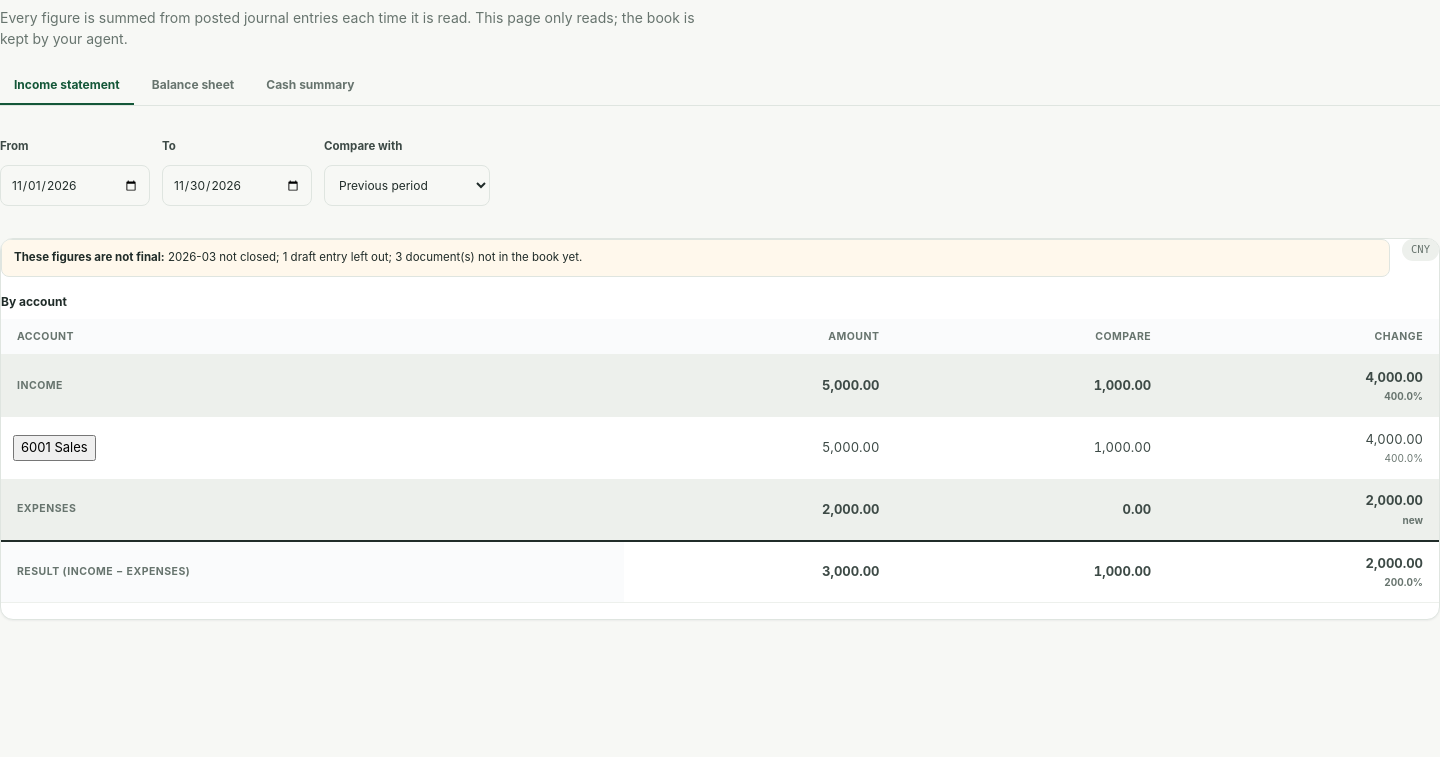
Scenario: StatementsPage › says the figures are not final before showing them, and opens an account's ledger
The image size is (1440, 757).
Expected: the text "Result (income − expenses)" shows "3,000.00", [822, 563, 879, 579]
Expected: the row "6001 Sales" shows "5,000.00", [822, 439, 880, 455]
Click the button "6001 Sales": (54, 448) [13, 435, 96, 461]
(page scrolled)
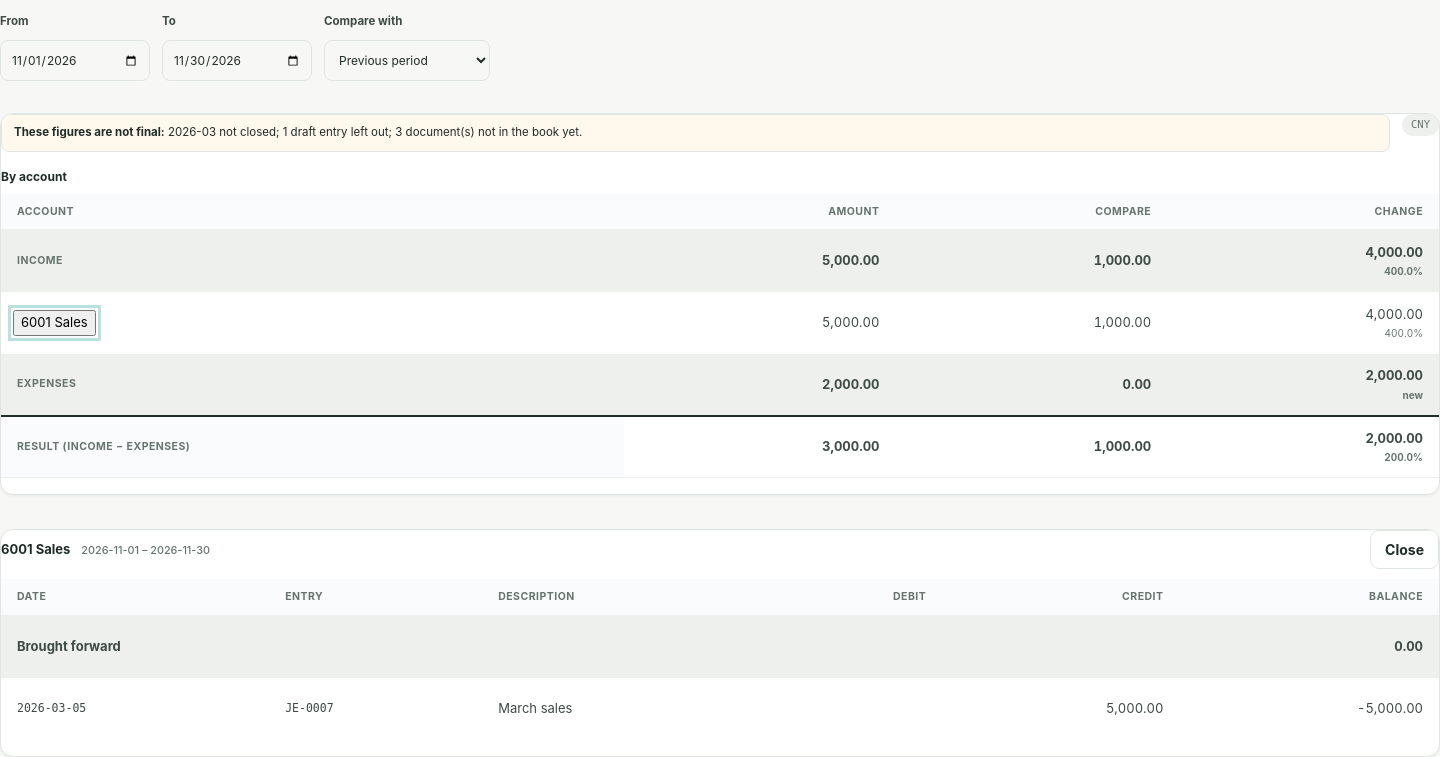
Result: the text "JE-0007" is shown at [269, 678, 482, 740]
